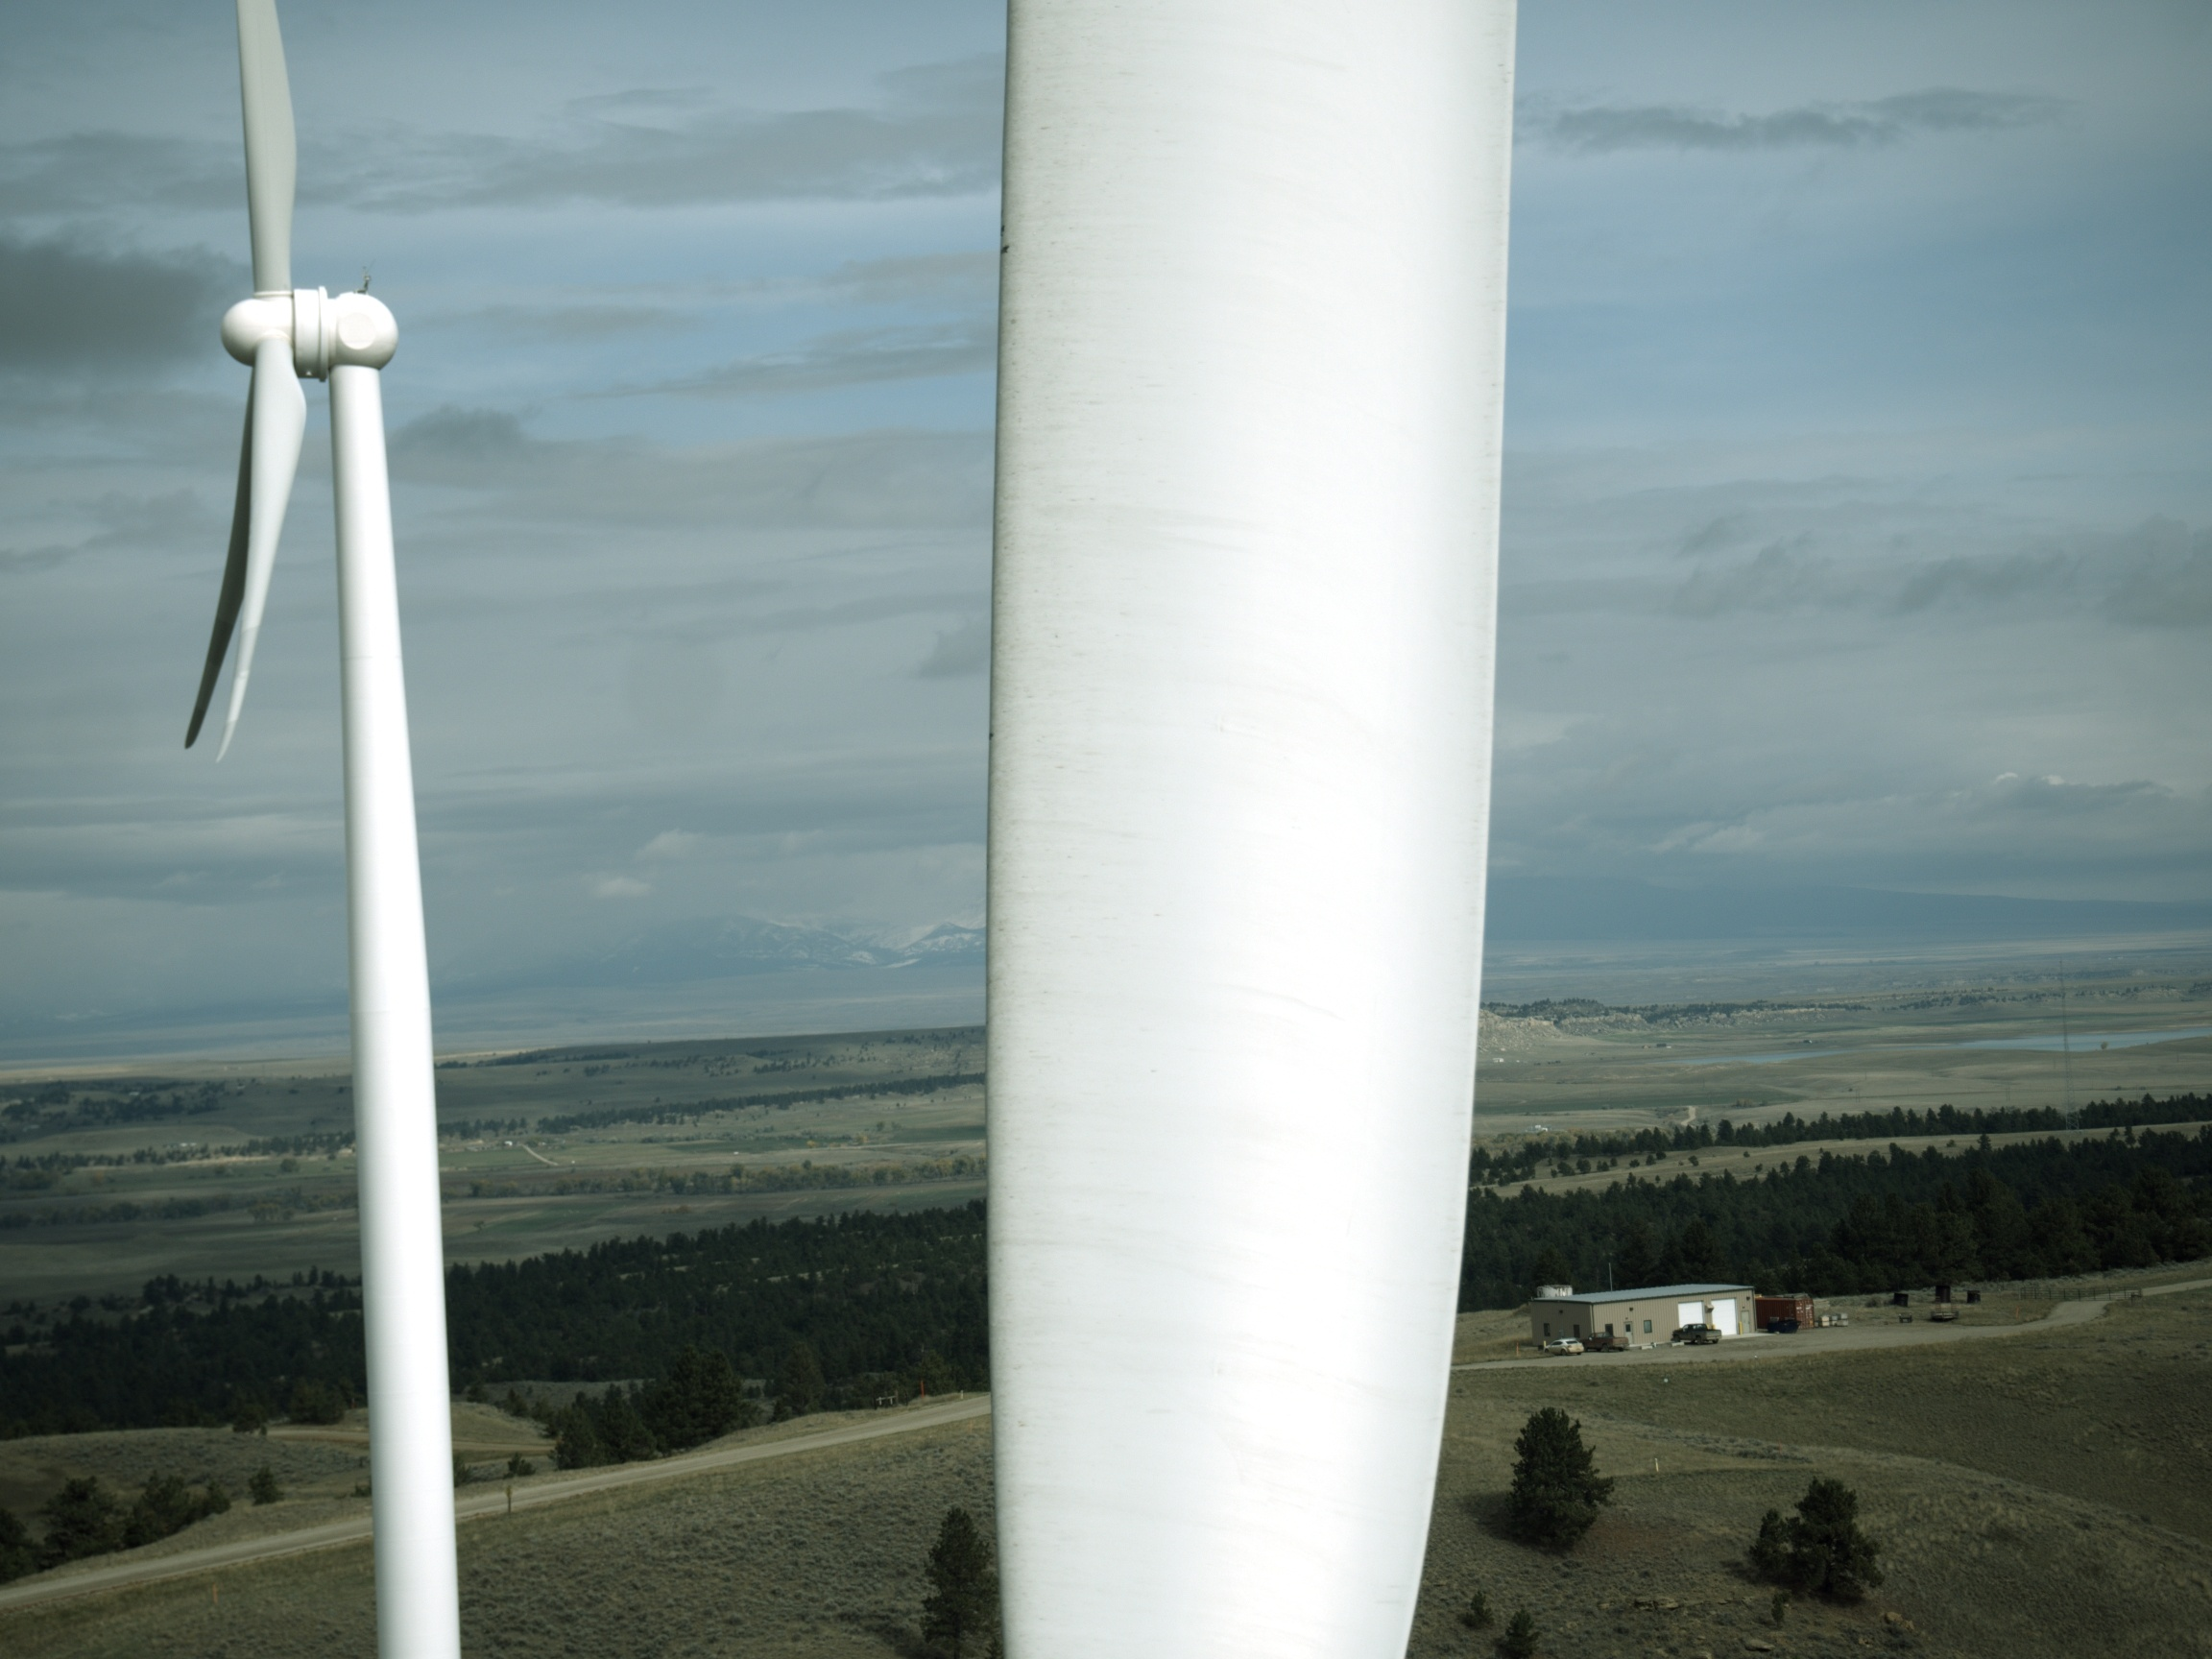chip: (1000, 242, 1010, 256), (1000, 223, 1005, 237), (989, 732, 995, 741)
